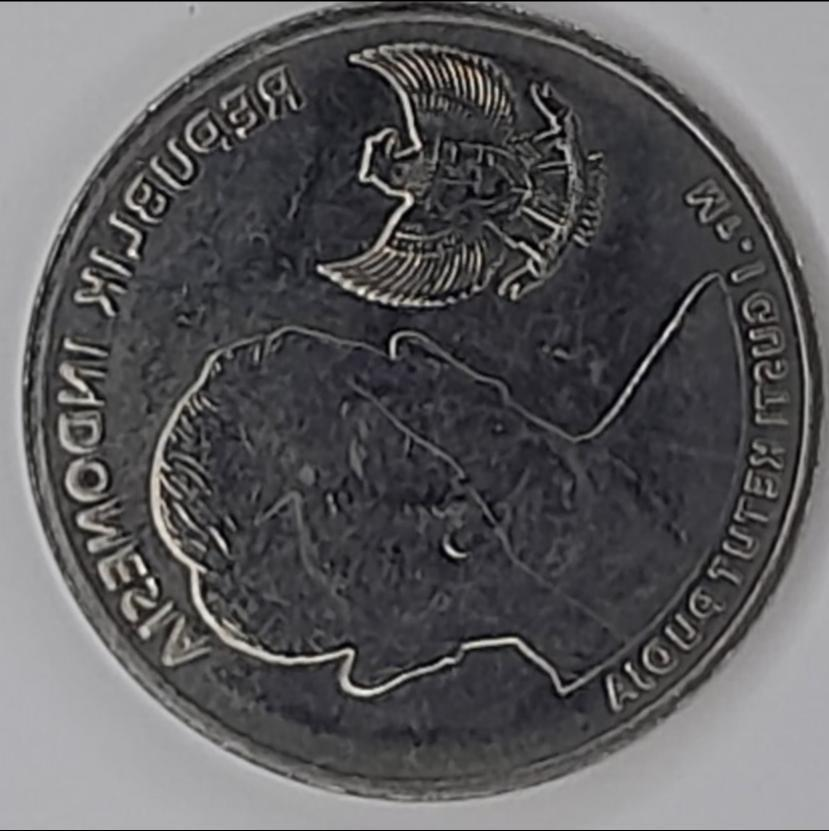coin_1000_e2016: (14, 16, 818, 831)
